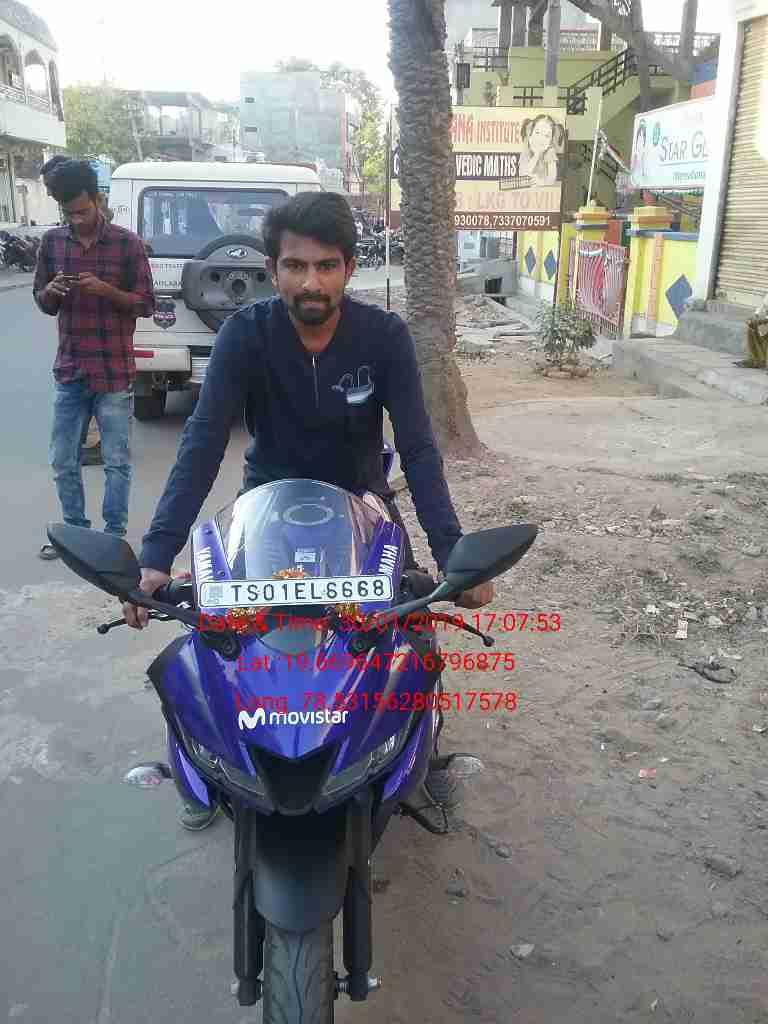plate: (194, 572, 394, 610)
